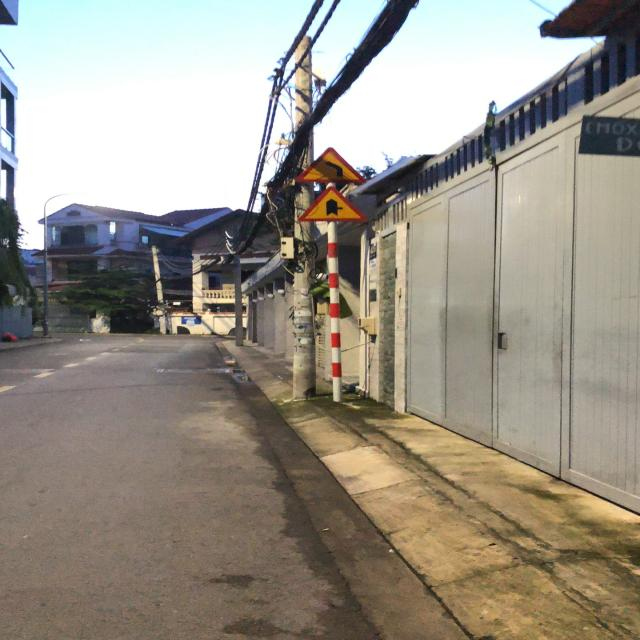Bien bao cho ngoat nguy hiem: (278, 143, 380, 186)
Bien bao giao nhau voi duong khong uu tien: (288, 186, 381, 226)
